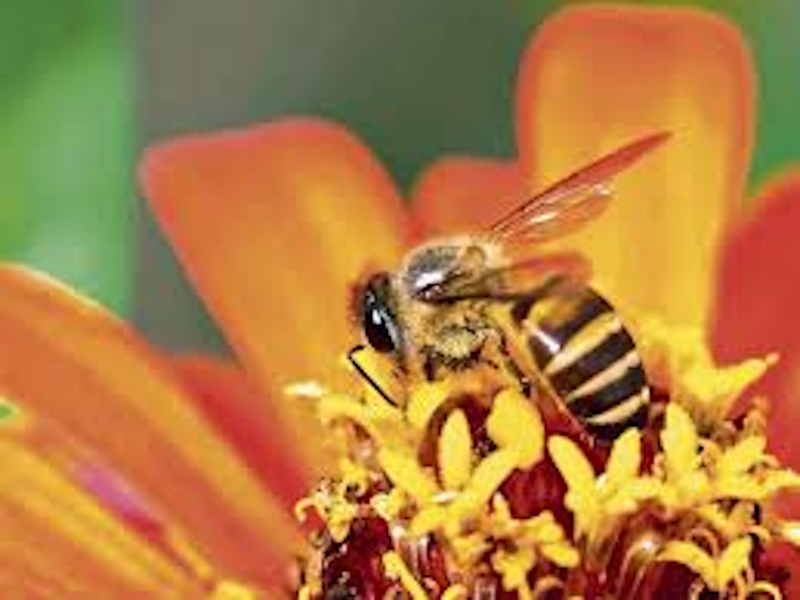abeja: (320, 88, 683, 484)
